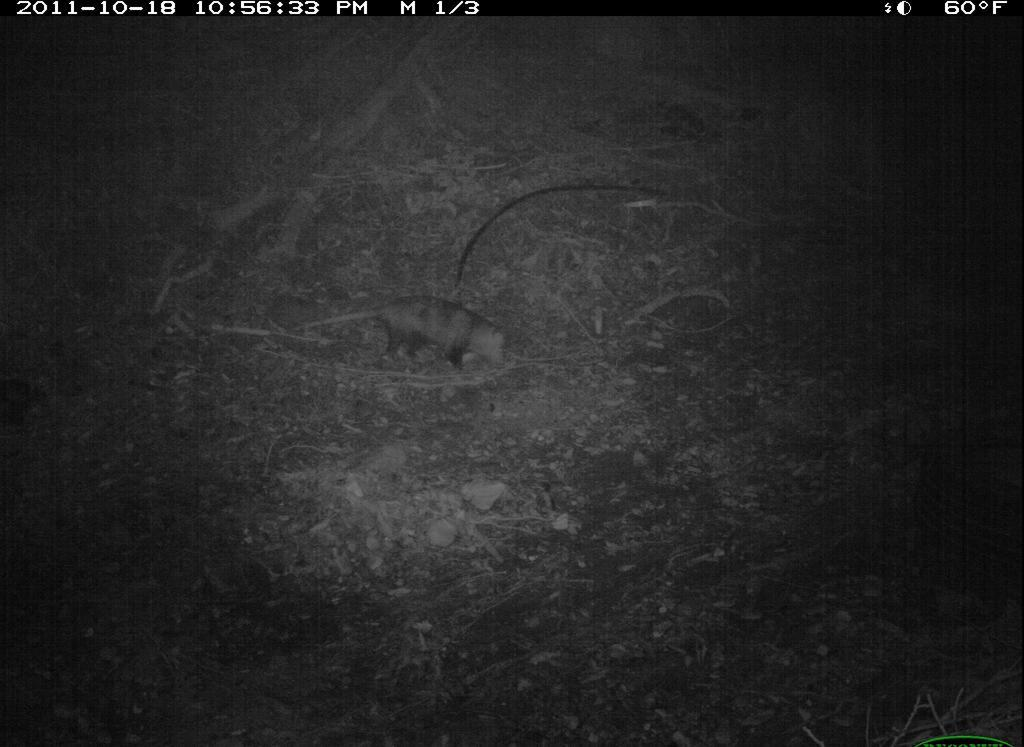opossum: (281, 269, 537, 395)
